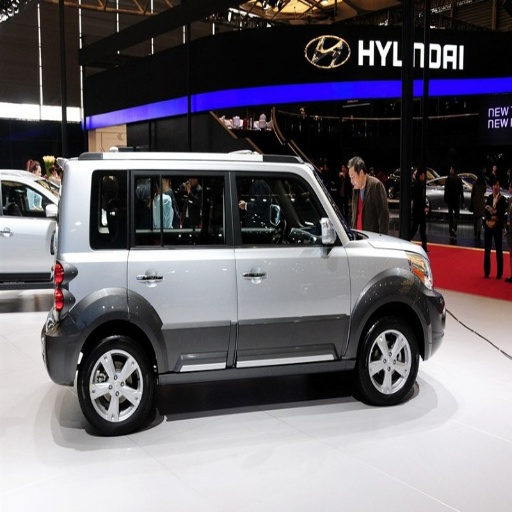back_right_door: (132, 170, 237, 369)
front_right_door: (232, 169, 348, 363)
